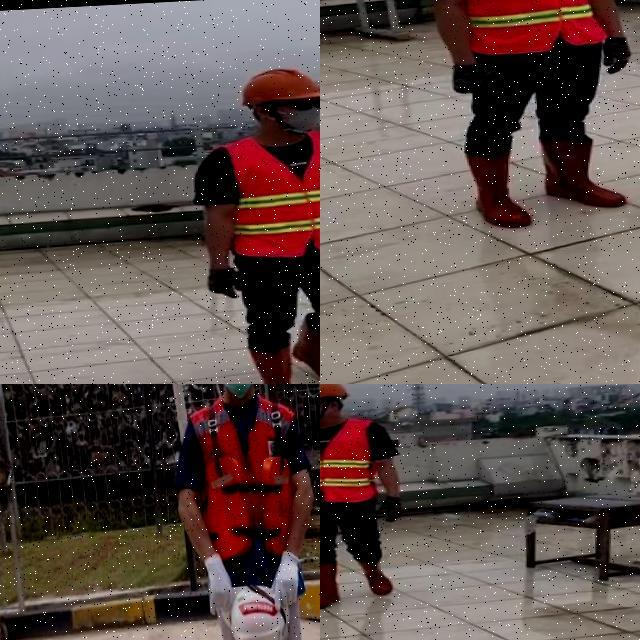boots: (452, 145, 534, 233), (547, 132, 626, 210), (244, 344, 309, 384), (293, 312, 320, 383), (357, 558, 402, 598), (320, 563, 344, 608)
helmet: (240, 62, 320, 110), (320, 384, 357, 408)
vest: (185, 392, 305, 598), (219, 131, 320, 258), (438, 0, 607, 56), (320, 419, 381, 507)
